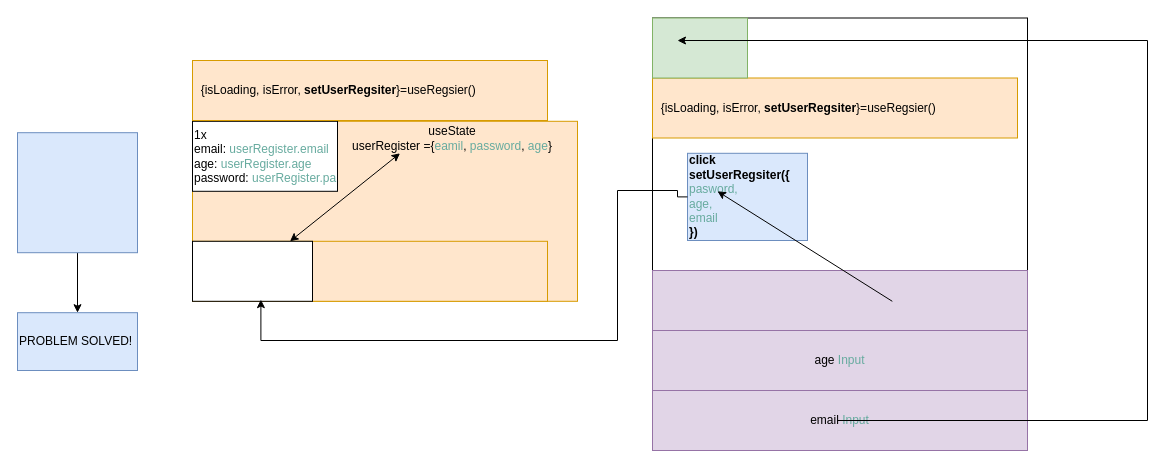
Image size: 1173x468. Some labels were removed from this diagram. The shapes that lost their labels are listed below. From the top down, each one's centre as x and y in pixels, then its label:
At (700,47): "useState( { eamil, password, age} )".
At (77,192): "ერთჯერადად, მოაქვს და აგზავნის ინფორმაციას".
At (252,270): "+1 call setUserRegsiter".
At (840,300): "password Input".
